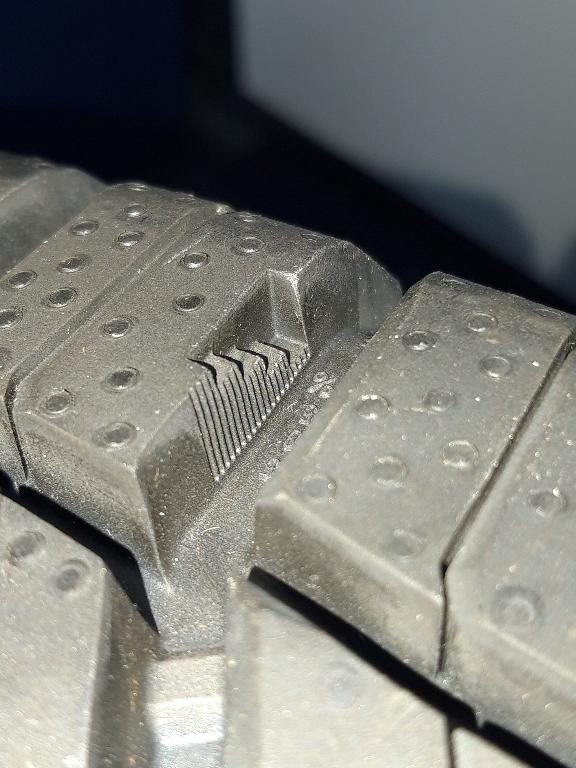temoin:100: (178, 265, 320, 487)
